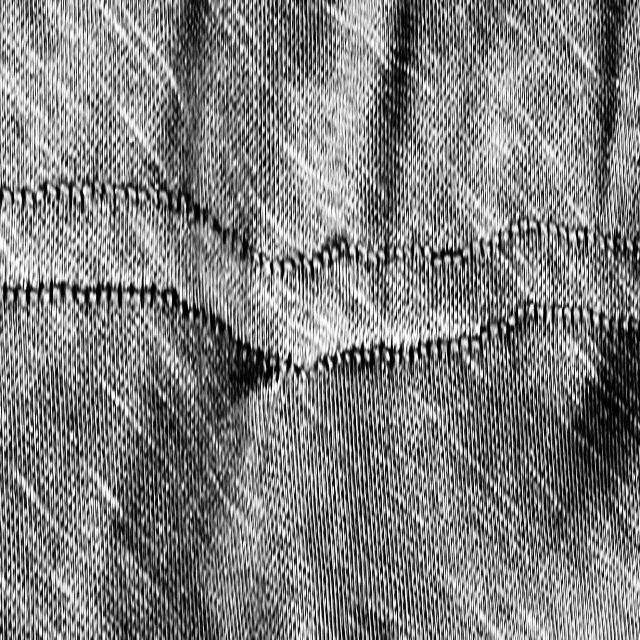Sewing_error: (218, 318, 472, 398)
